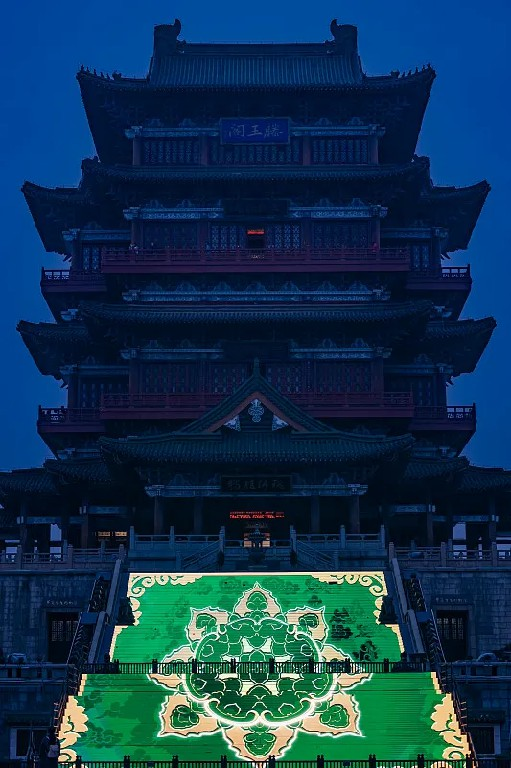Teng: (19, 20, 510, 545)
